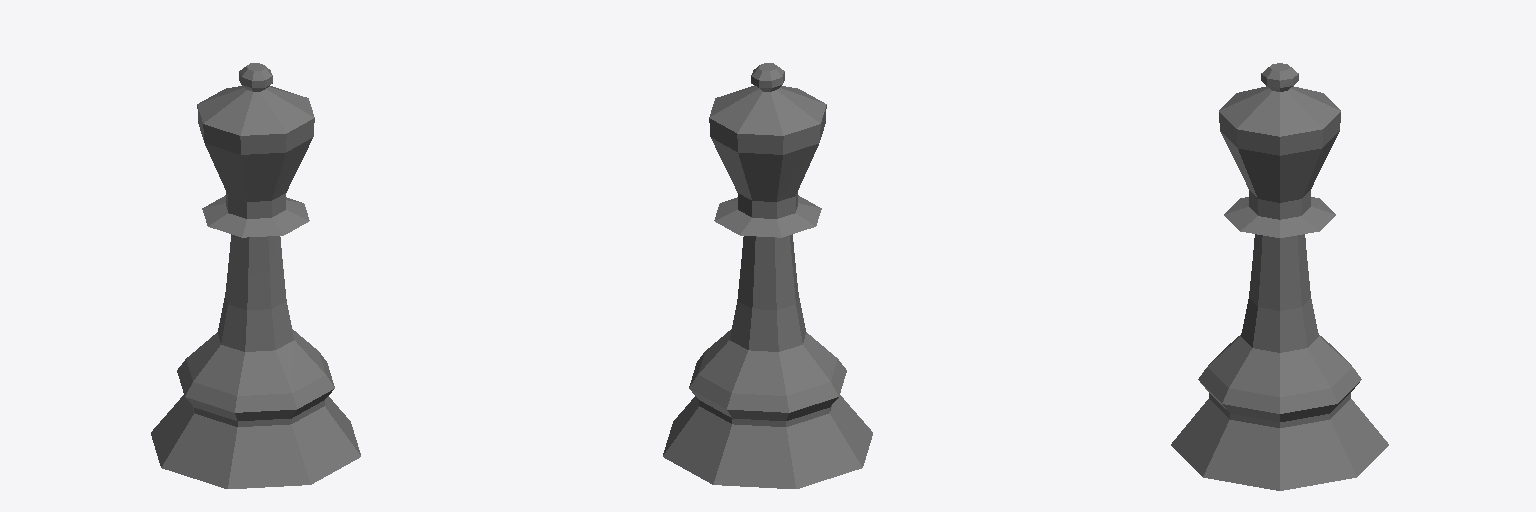
The model's file is Queen_chess.obj.
The picture shows the model from 3 angles: view 1: azimuth 30°, elevation 25°; view 2: azimuth 150°, elevation 25°; view 3: azimuth 270°, elevation 25°; orthographic projection.
Parts seen in each view (by area): view 1: Queen; view 2: Queen; view 3: Queen.
Part boxes in pixels (x1,y1,x2,y2): Queen: (151,63,360,488); Queen: (663,63,872,488); Queen: (1171,63,1388,490).
Size of the model in its own units: 1.68 by 3.2 by 1.68.